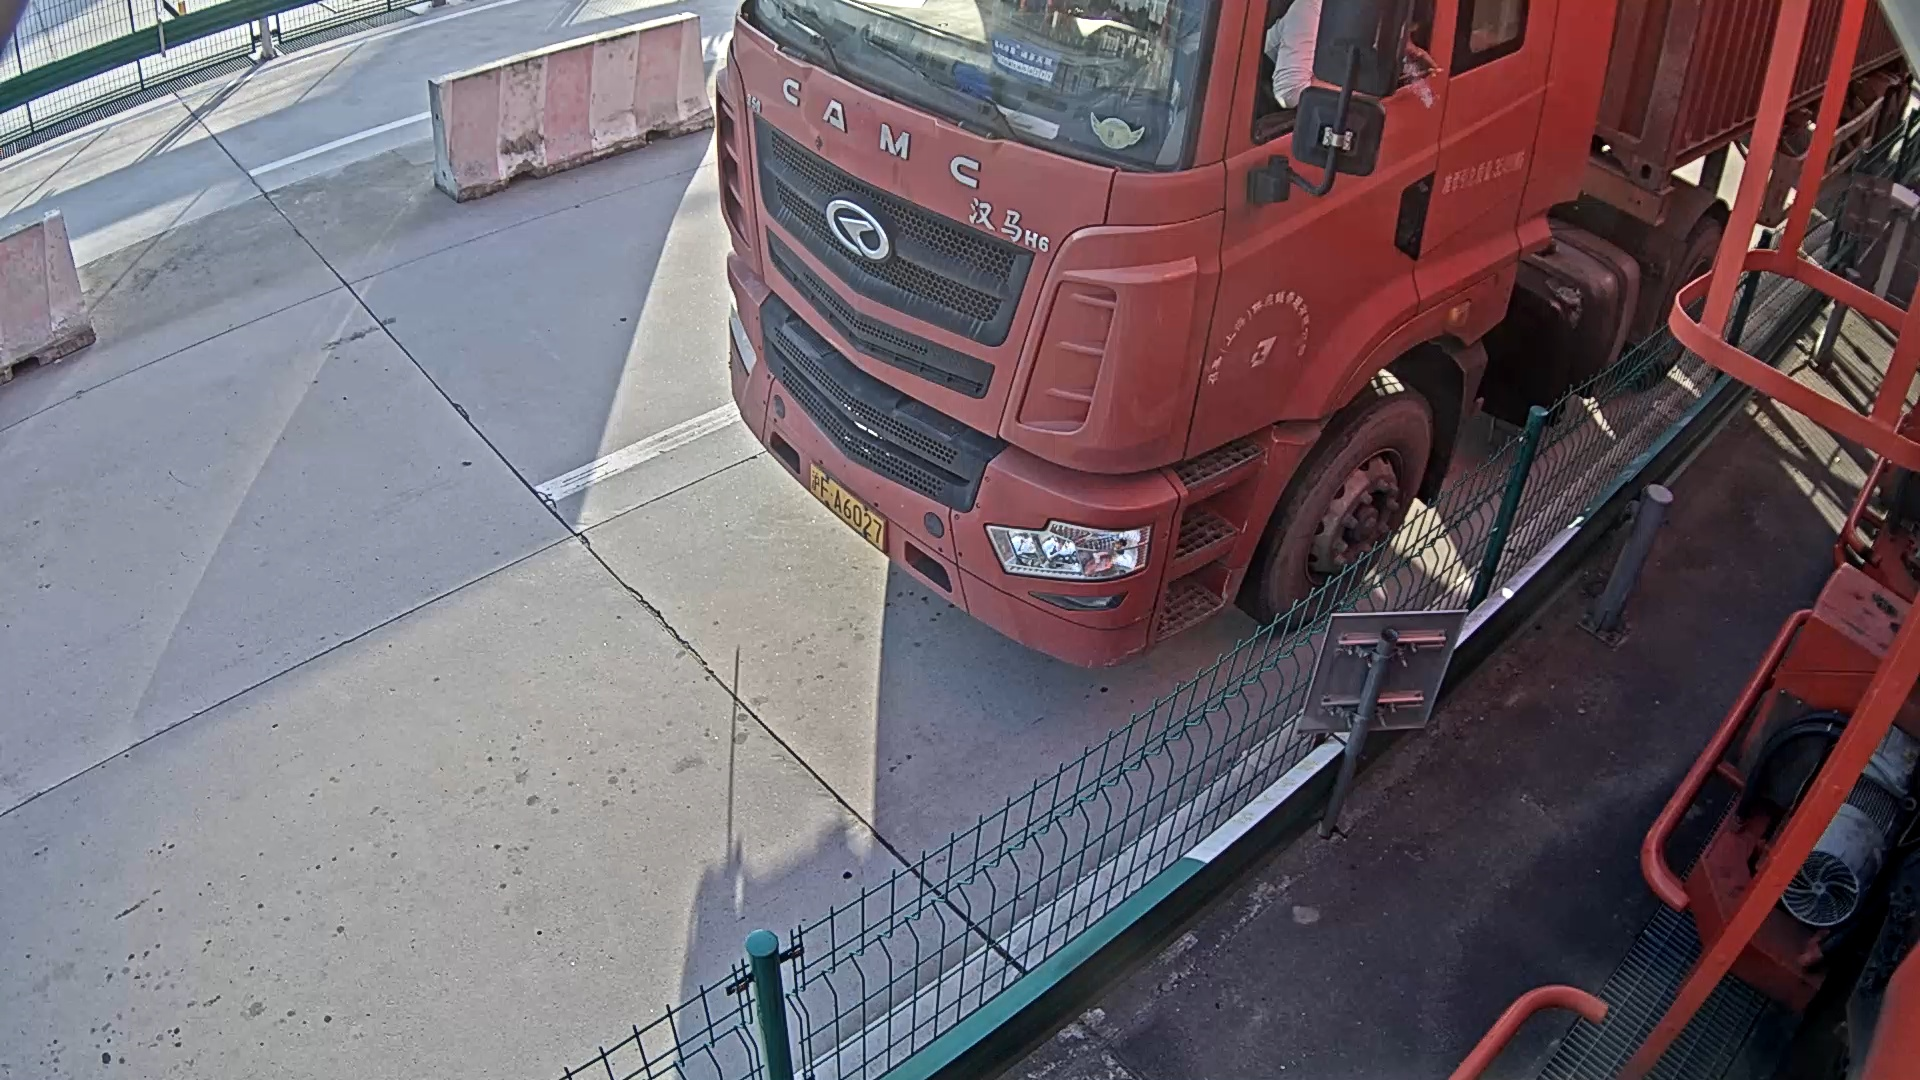head: (699, 9, 1266, 679)
plate: (804, 459, 895, 563)
